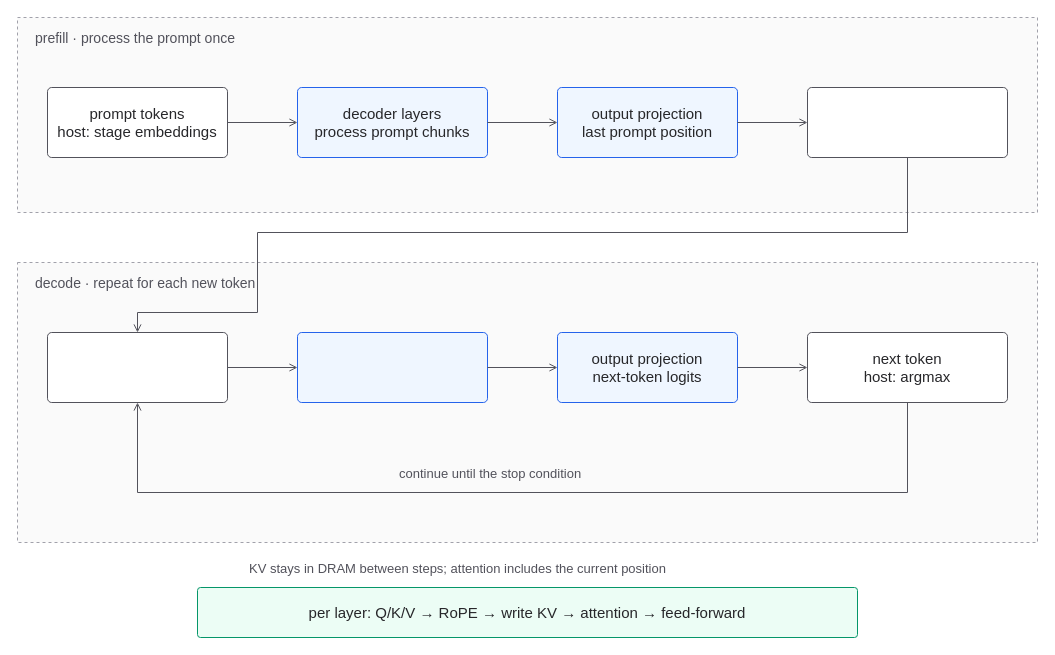
Image size: 1055x655. Some labels were removed from this diagram. Each missing label, with the centre of its shape:
"decoder layers process one position" belongs at point 392,367.
"first new token host: argmax" belongs at point 907,122.
"token embedding host: stage one row" belongs at point 137,367.
